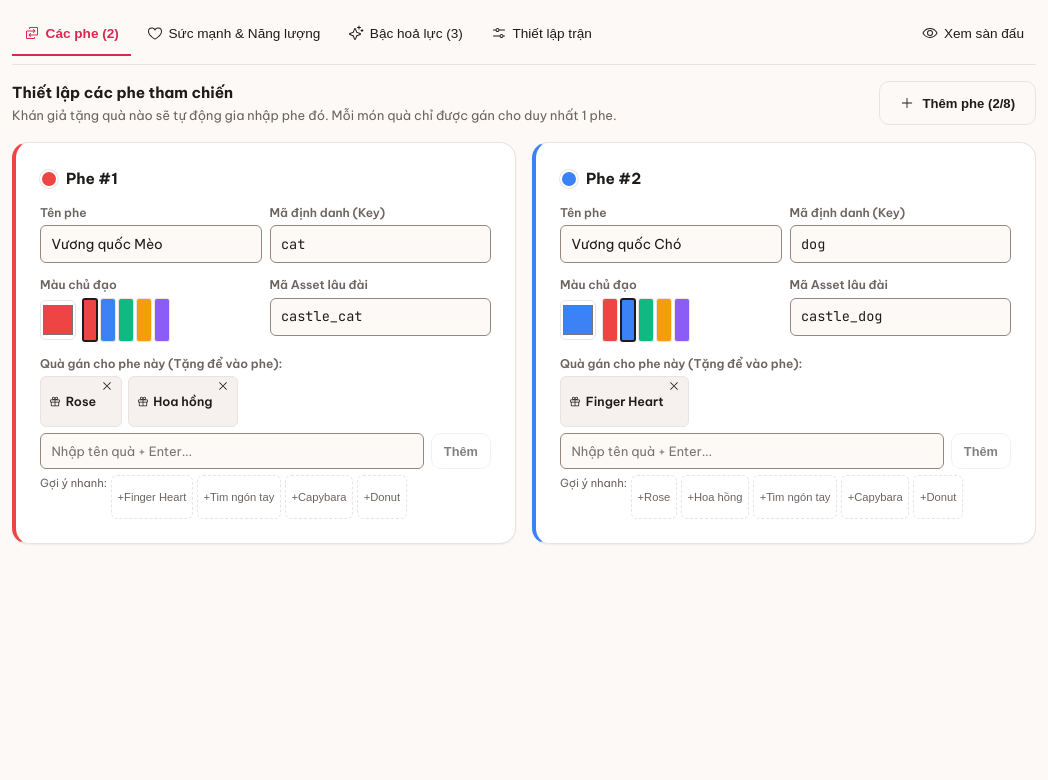
Test case: TeamBattleConfigEditor › switches between tabs: teams, power, actions, battle, preview
Switch to Power & Energy
Click the tab "Sức mạnh & Năng lượng": [234, 34] box [135, 12, 332, 56]
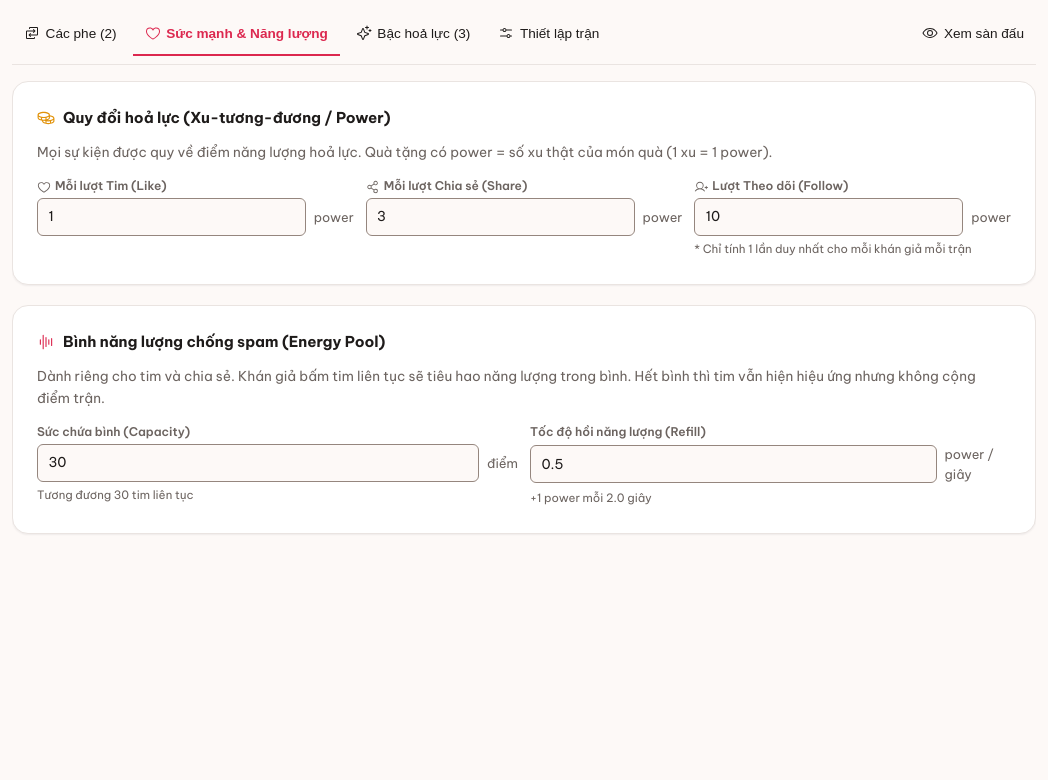
Expected: the text "Quy đổi hoả lực (Xu-tương-đương / Power)" is shown, [63, 106, 391, 130]
Expected: the number field showing "30" is shown, [37, 444, 479, 482]
Switch to Action Tiers
Click the tab "Bậc hoả lực (3)": [413, 34] box [344, 12, 482, 56]
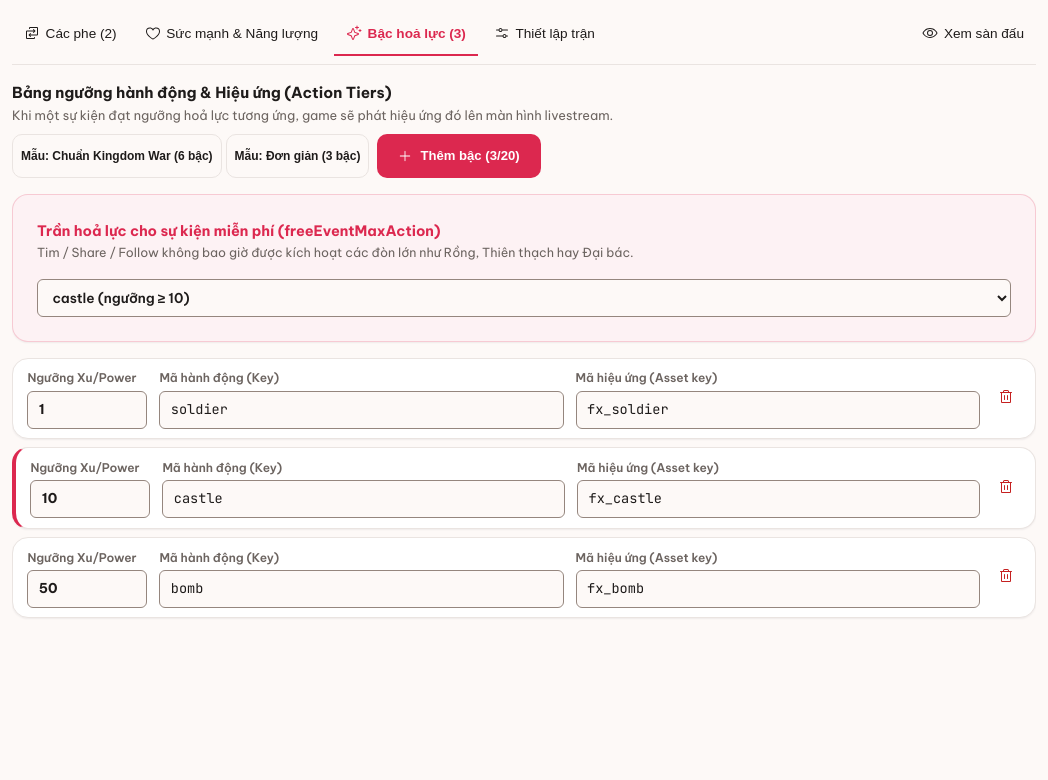
Expected: the text "Bảng ngưỡng hành động & Hiệu ứng (Action Tiers)" is shown, [12, 83, 392, 102]
Expected: the 1st field showing "soldier" is shown, [159, 391, 564, 429]
Expected: the 3rd field showing "castle" is shown, [162, 480, 565, 518]
Switch to Battle Settings
Click the tab "Thiết lập trận": [544, 34] box [482, 12, 607, 56]
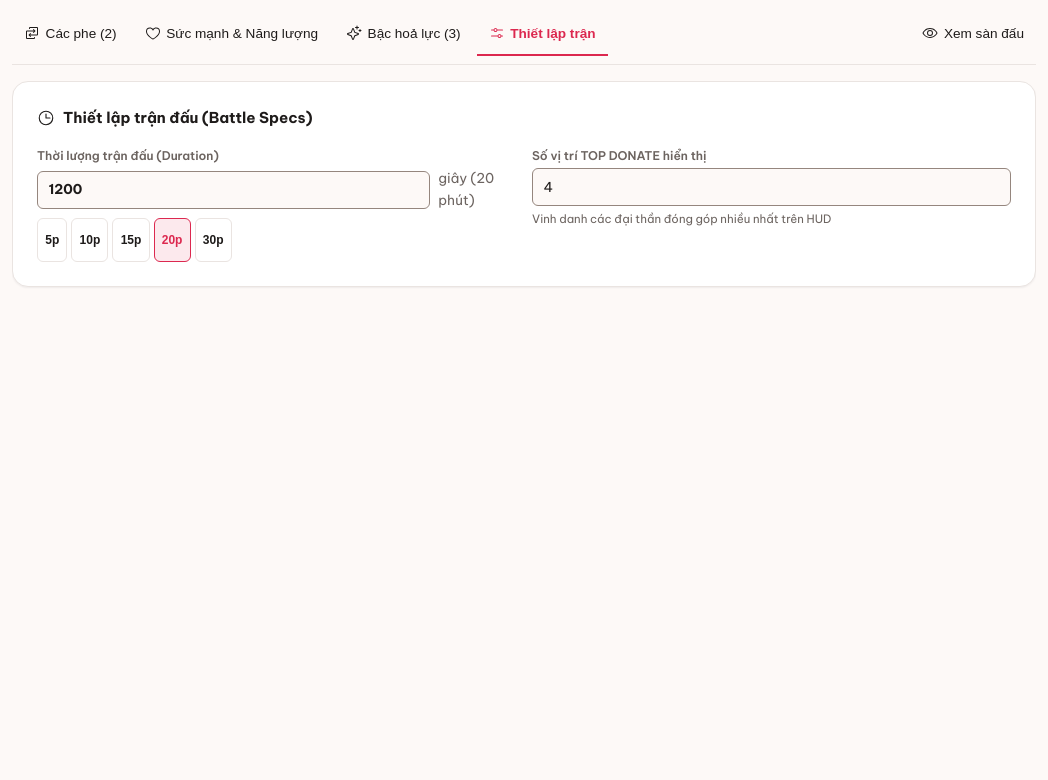
Expected: the text "Thời lượng trận đấu (Duration)" is shown, [37, 148, 219, 163]
Expected: the number field showing "1200" is shown, [37, 171, 430, 209]
Switch to Arena Preview
Click the tab "Xem sàn đấu": [973, 34] box [910, 12, 1036, 56]
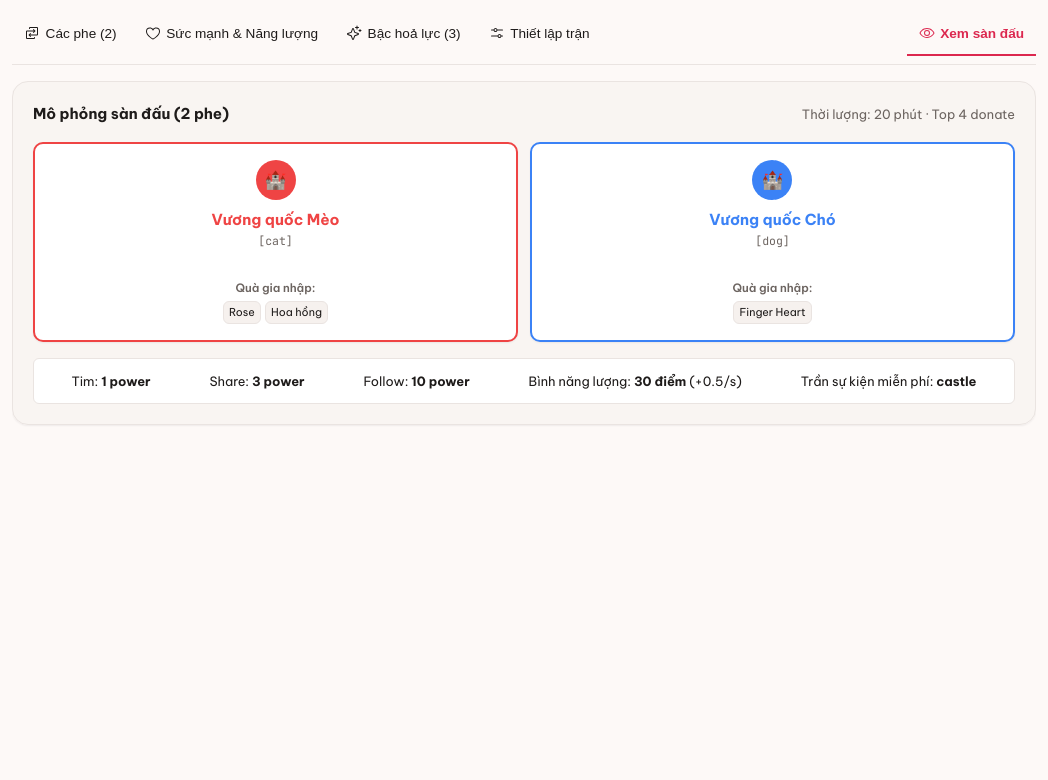
Expected: the text "Mô phỏng sàn đấu (2 phe)" is shown, [33, 102, 229, 126]
